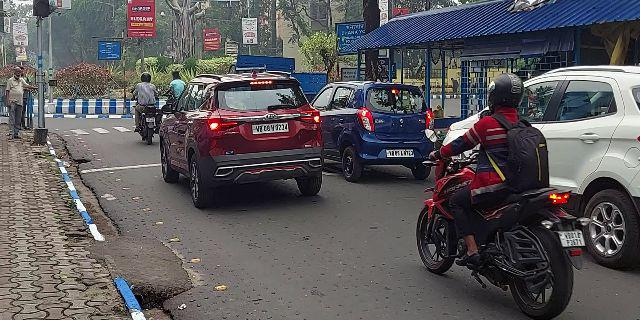Car: (441, 61, 639, 262), (159, 71, 327, 207), (317, 69, 438, 187)
Motorbike: (414, 67, 582, 310), (132, 67, 160, 146)
